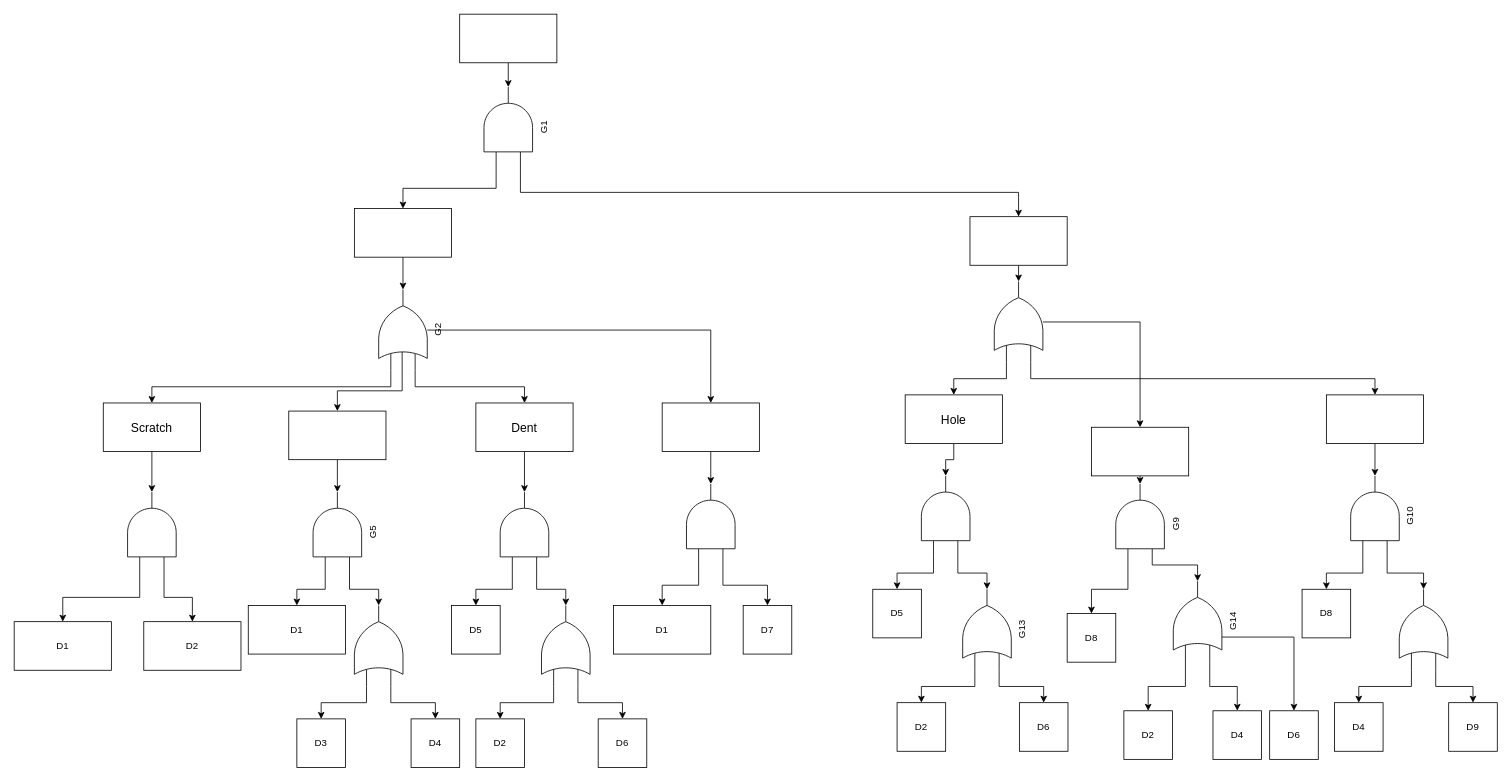
Image size: 1511x782. Some labels were removed from this diagram. The centre of each missing label's shape, as x and y in pixels:
Composite Laminate Failure: (508,38)
Debond: (1375,418)
Delamination: (1140,451)
Erosion: (710,427)
External Failure: (403,232)
G11: (378,645)
G12: (565,645)
G15: (1423,629)
G3: (1018,321)
G4: (151,532)
G6: (524,532)
G7: (710,524)
G8: (945,516)
Internal Failure: (1018,240)
Oxidation: (337,435)
